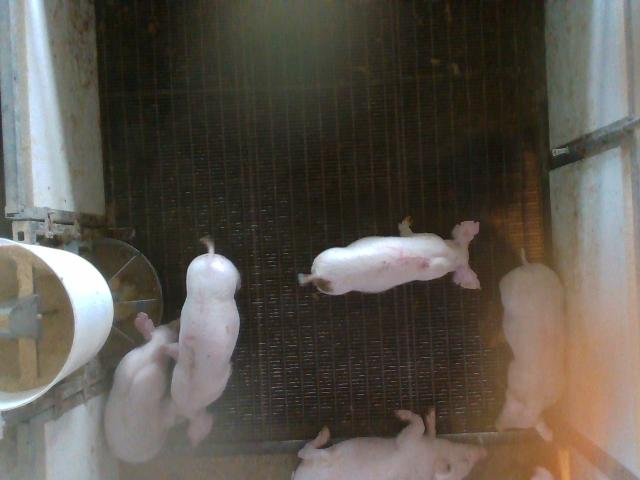pig-3: (161, 240, 240, 445)
pig-4: (496, 250, 565, 441)
pig-5: (298, 216, 479, 294)
